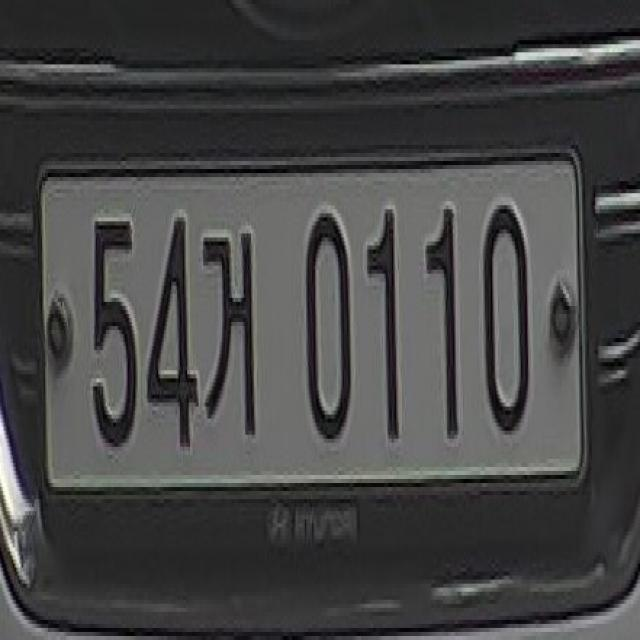0: (298, 173, 354, 459), (476, 189, 534, 439)
1: (354, 181, 414, 467), (412, 177, 472, 463)
4: (142, 189, 203, 463)
5: (84, 205, 144, 451)
geo: (200, 213, 266, 455)
license_plate: (32, 149, 595, 527)
